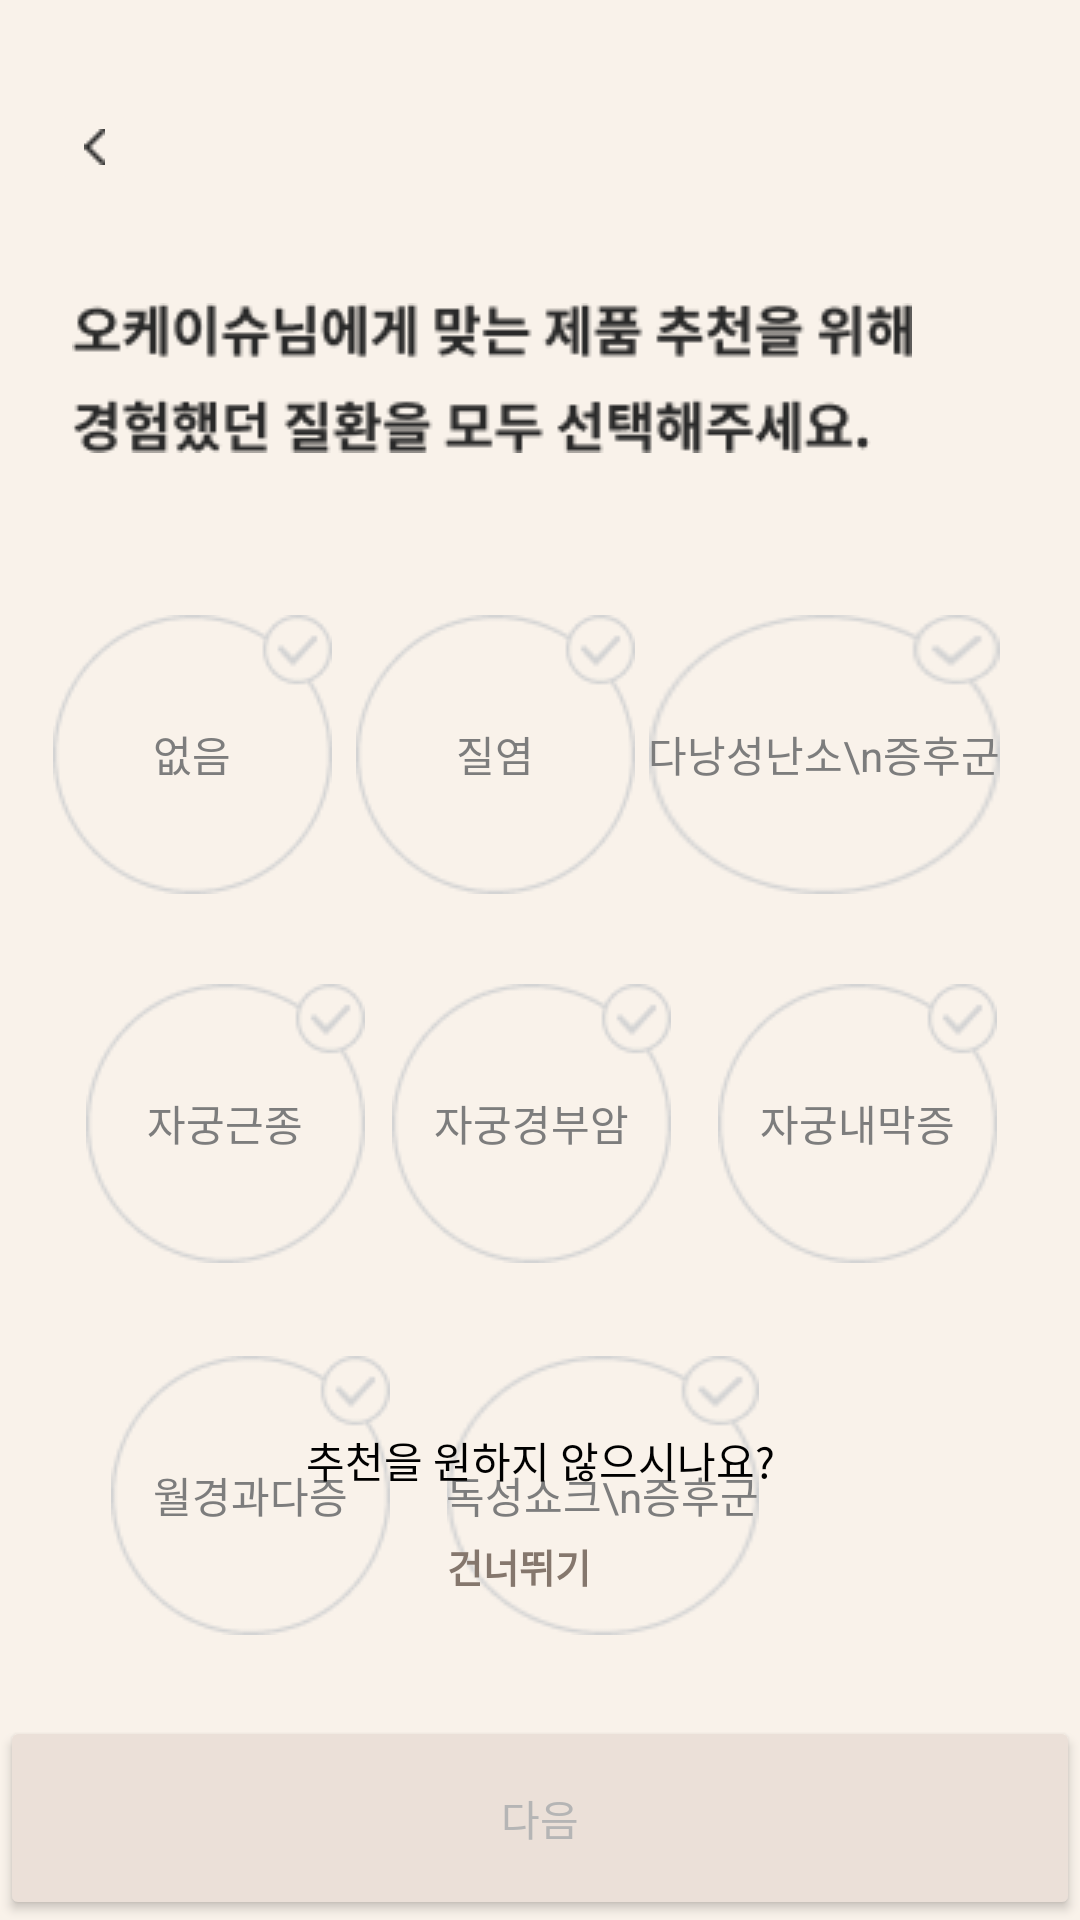

Icons on this 1080px×1920px Android screen, each with the point to tap as point (x, y):
back: point (94, 147)
